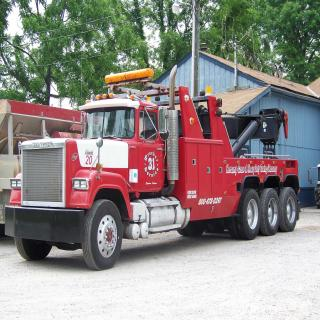Towing_truck: (4, 65, 302, 271)
